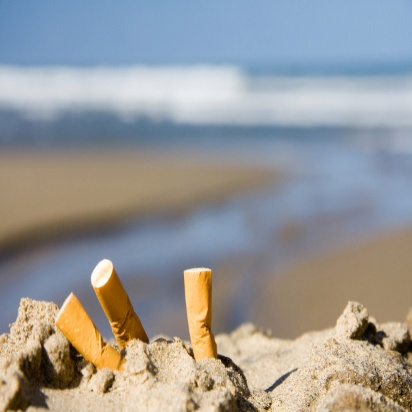cigarette: (87, 253, 155, 350), (54, 290, 127, 376), (180, 257, 223, 369)
